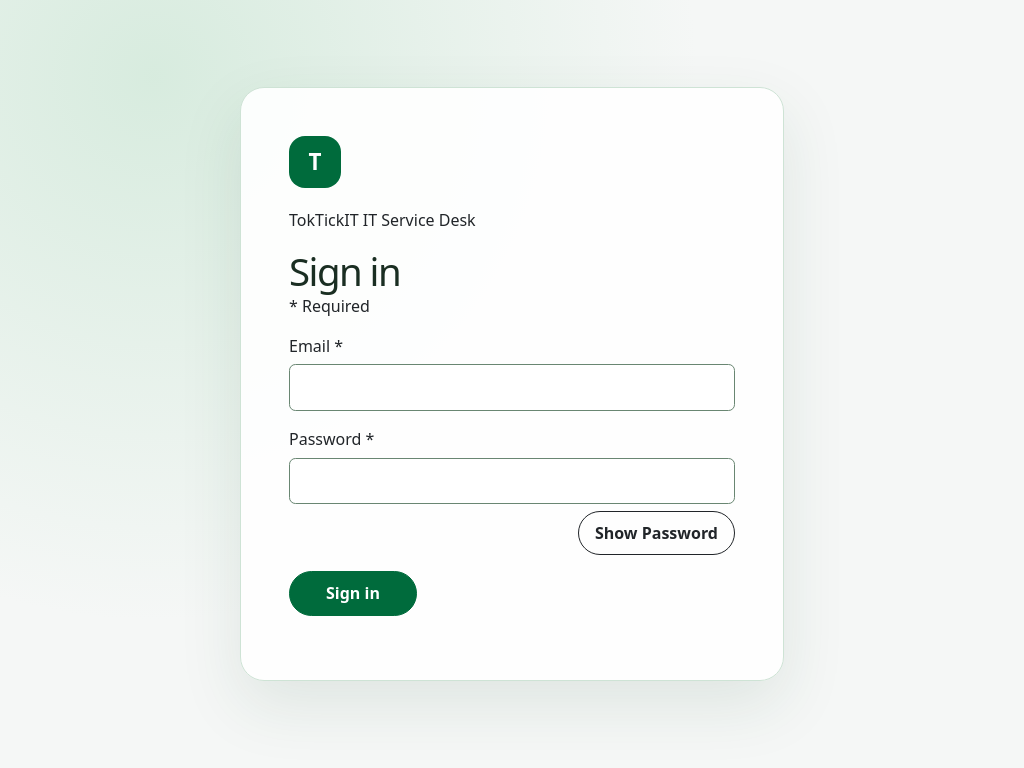
Test case: UI-01 Login › shows generic safe failure, preserves email, clears password and sends cookies
This screenshot has width=1024, height=768.
Expected: the heading "Sign in" is shown, [289,245,400,297]
In the field labelled "Email *": [512, 388] box [289,364,735,411], type "person@example.test"
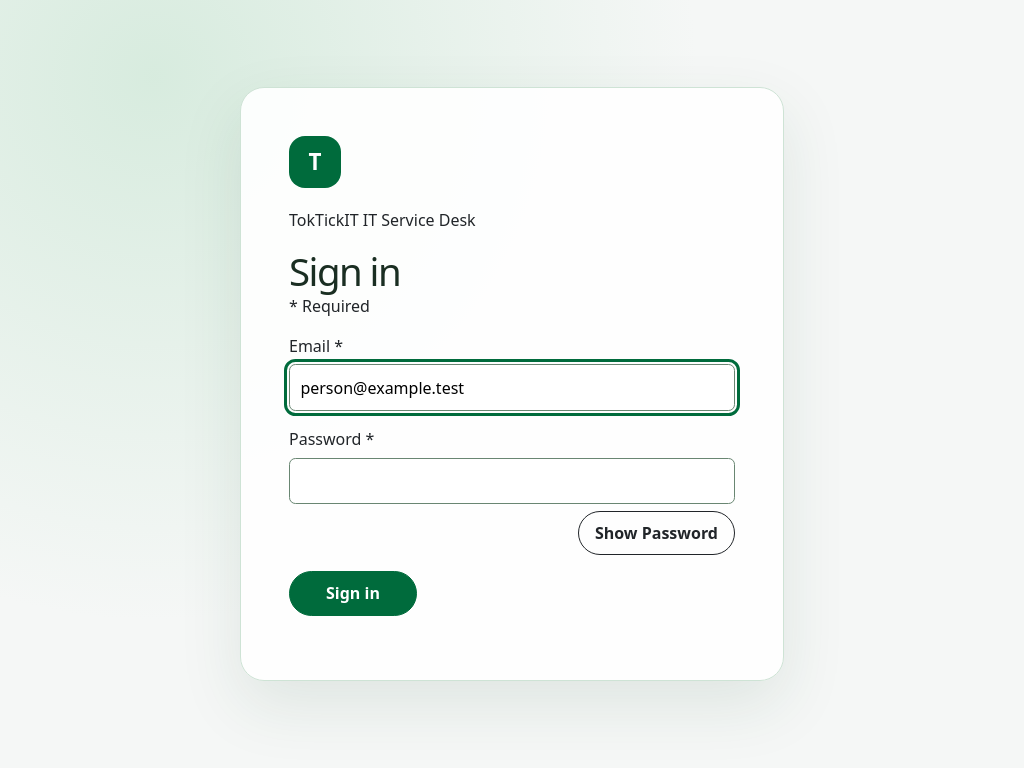
In the password field labelled "Password *": [512, 481] box [289,458,735,504], type "Initial-password1!"
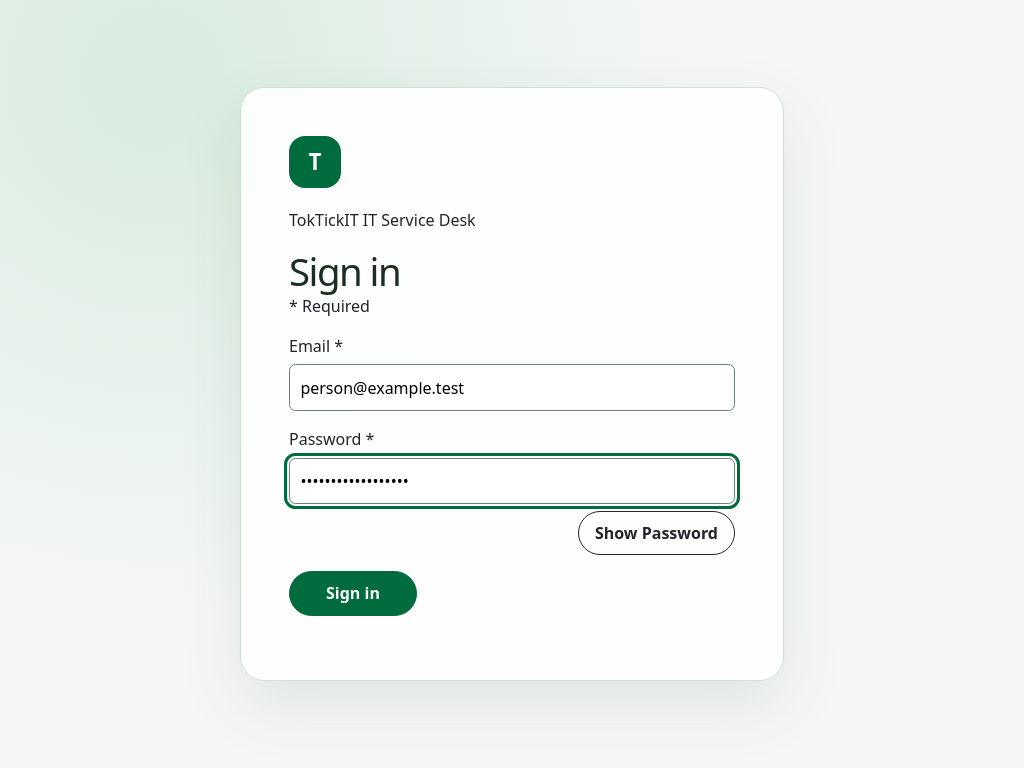
Click the button "Sign in": [353, 593] box [289,571,417,616]
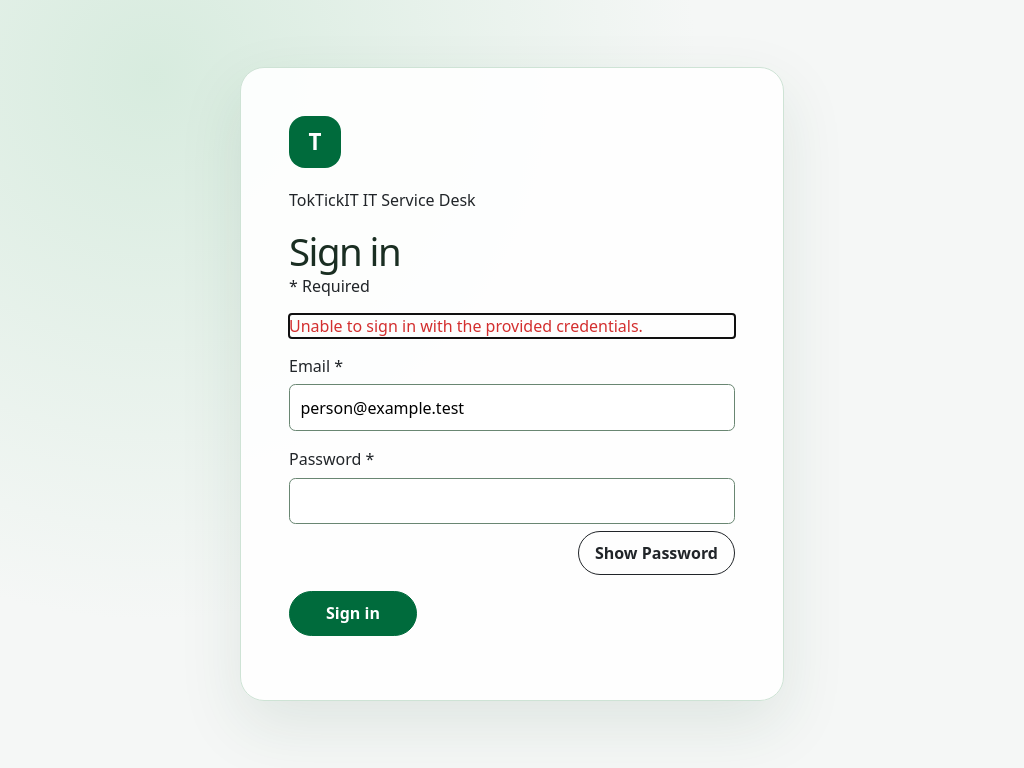
Now the text "Unable to sign in with the provided credentials." is shown, box [289,315,643,337]
Now the password field labelled "Password *" is empty, box [289,478,735,524]
